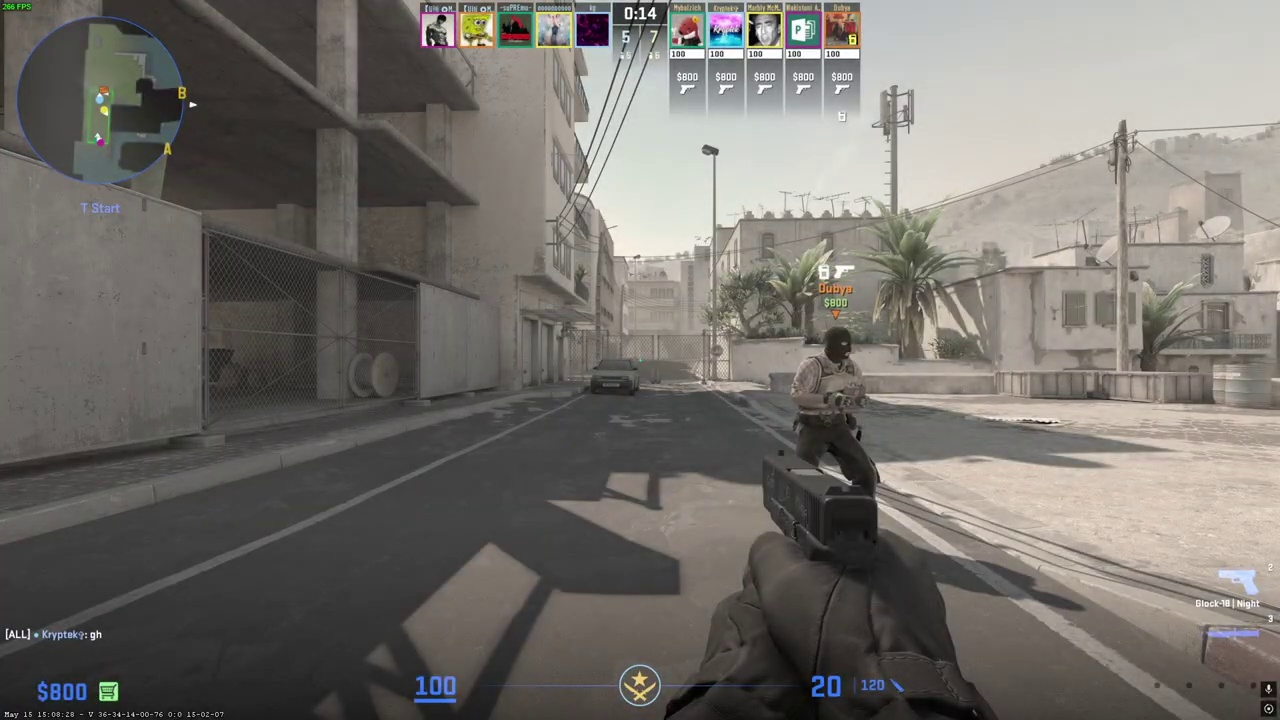Terrorist: (791, 326, 876, 488)
